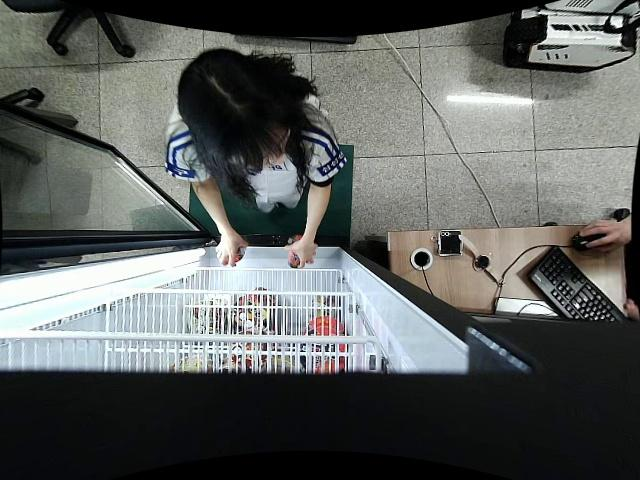00_hand: (283, 239, 318, 269), (215, 237, 246, 267)
02_shinRamen_S: (230, 243, 247, 266), (287, 247, 303, 269)
